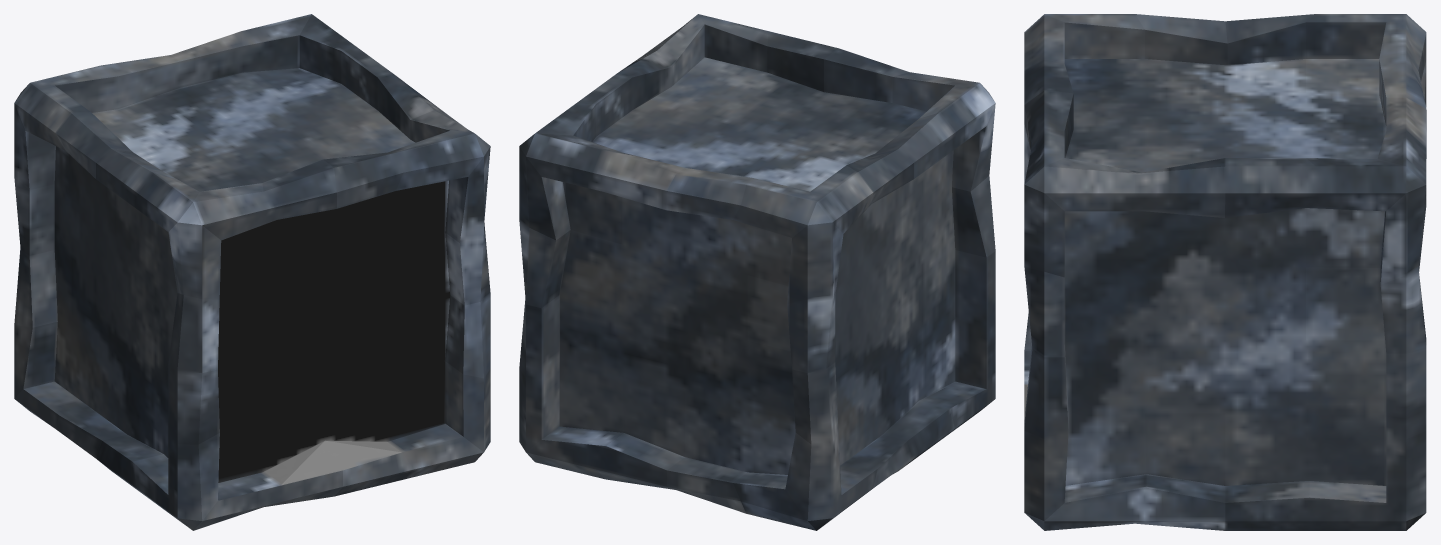
File: Mossy Stone Drawer.fbx
3 views of the same model, side by side, from view 1: azimuth 30°, elevation 25°; view 2: azimuth 150°, elevation 25°; view 3: azimuth 270°, elevation 25° (orthographic). The views are drawn at different scales.
Visible parts, largest first — view 1: Cube; view 2: Cube; view 3: Cube.
Part boxes in pixels (bbox=[...]): Cube: bbox=[14, 14, 490, 530]; Cube: bbox=[519, 14, 995, 530]; Cube: bbox=[1024, 14, 1426, 530].
Size of the model in its own units: 100 by 100 by 100.
1 material, 1 textured.
